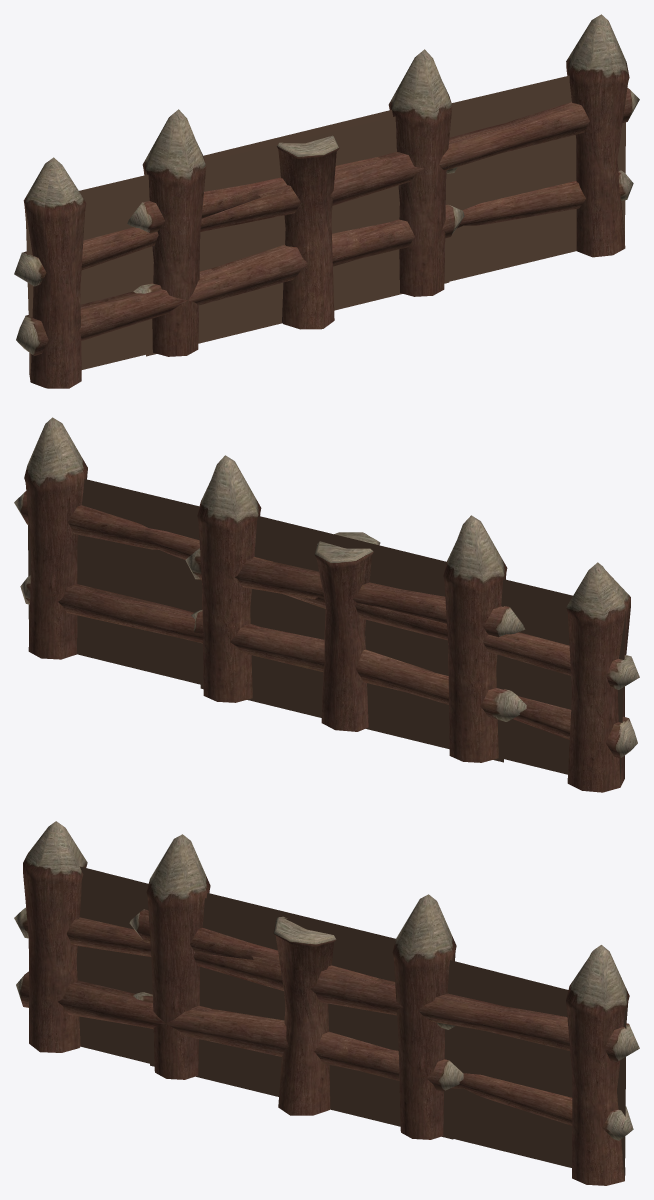
File: fences.fbx
3 renders of one model, top to bottom at view 1: azimuth 30°, elevation 25°; view 2: azimuth 150°, elevation 25°; view 3: azimuth 330°, elevation 25°, orthographic.
Parts seen in each view (by area): view 1: fence_long_nophys, fence_short_nophys; view 2: fence_long_nophys, fence_short_nophys; view 3: fence_long_nophys, fence_short_nophys.
Boxes of the visible parts, x1,y1,x2,y2 form: fence_long_nophys: (14, 14, 639, 388); fence_short_nophys: (127, 49, 464, 356); fence_long_nophys: (14, 417, 639, 792); fence_short_nophys: (185, 455, 526, 762); fence_long_nophys: (14, 821, 639, 1185); fence_short_nophys: (129, 834, 463, 1139).
Size of the model in its own units: 245 by 89.64 by 24.25.
